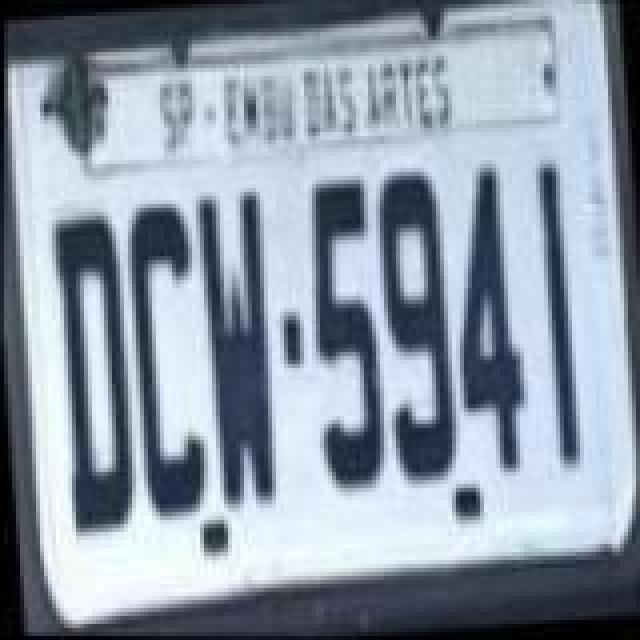1: (534, 158, 590, 474)
4: (442, 160, 538, 480)
5: (298, 176, 394, 492)
9: (370, 166, 466, 490)
C: (122, 200, 218, 524)
D: (48, 204, 148, 540)
W: (192, 186, 292, 510)
